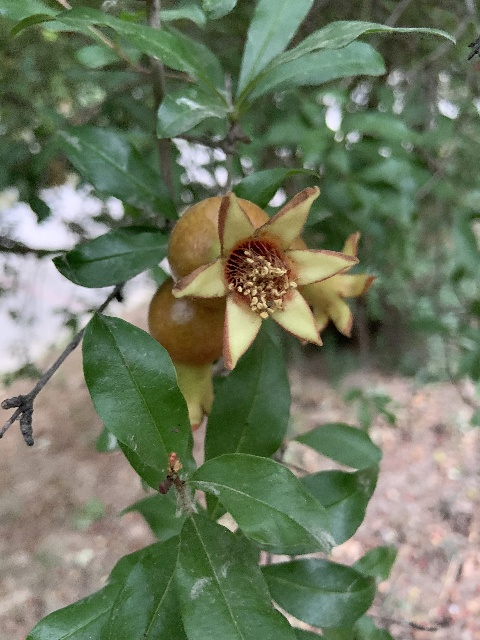early-fruit: (164, 186, 358, 370), (148, 277, 226, 429)
